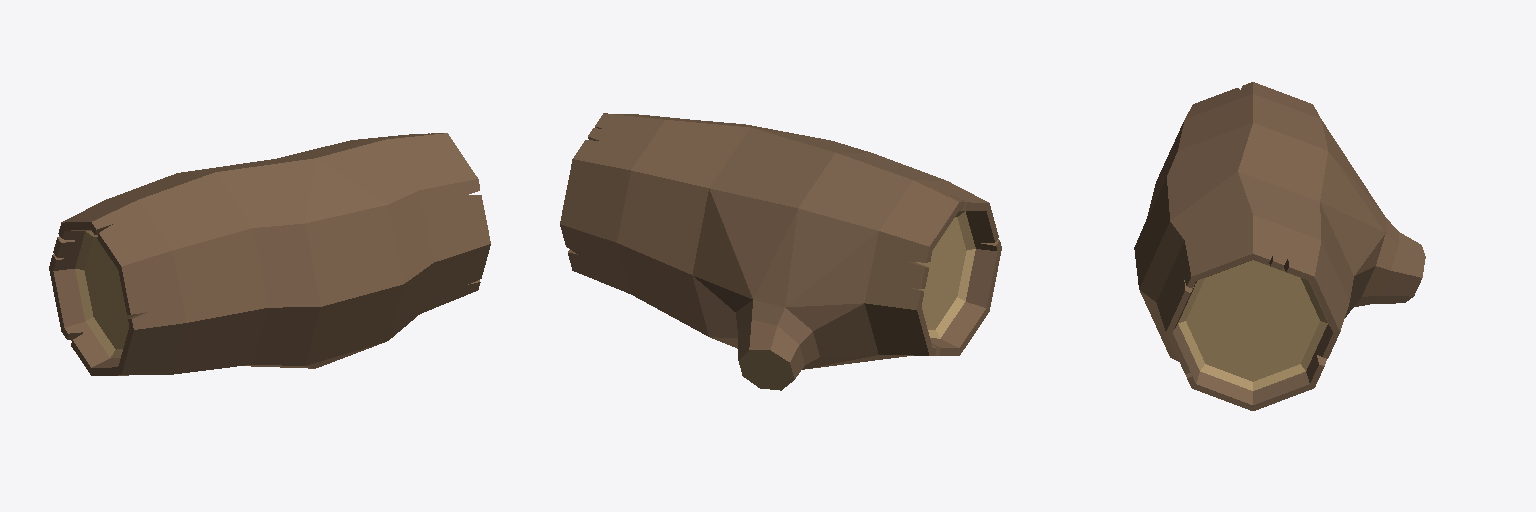
Rendered from Hilly_Prop_Camp_Sitting_Log.obj.
3 renders of one model, left to right at view 1: azimuth 30°, elevation 25°; view 2: azimuth 150°, elevation 25°; view 3: azimuth 270°, elevation 25°, orthographic.
Visible parts, largest first — view 1: object1; view 2: object1; view 3: object1.
Part boxes in pixels (left/top/right/bottom): object1: left=49, top=133, right=490, bottom=375; object1: left=560, top=113, right=1001, bottom=390; object1: left=1134, top=82, right=1425, bottom=410.
Size of the model in its own units: 1.15 by 0.659 by 0.8152.